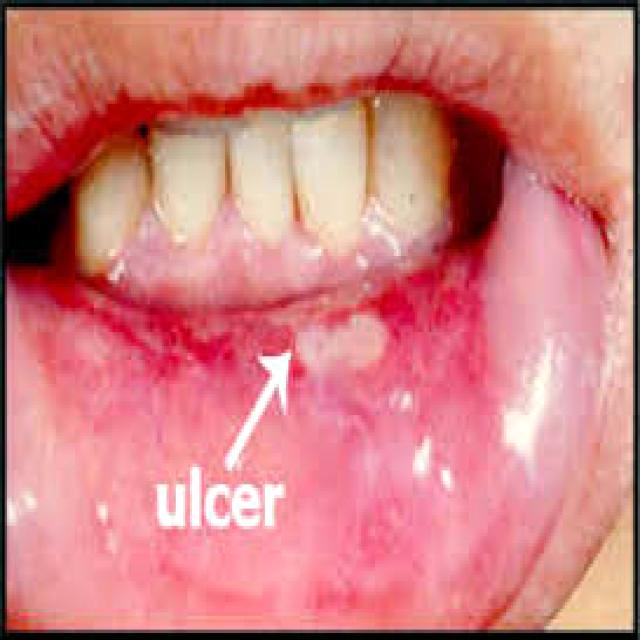ulcer: (295, 315, 387, 370)
